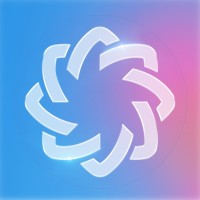ABB: (22, 24, 177, 179)
